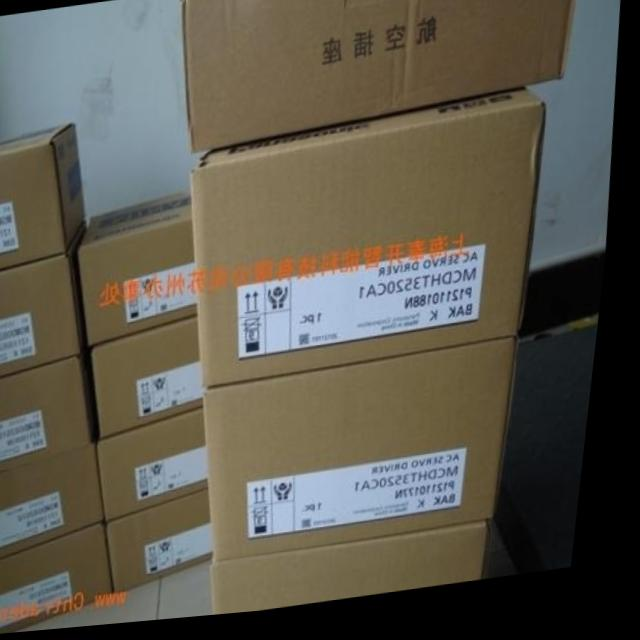box: (196, 96, 550, 391), (213, 345, 529, 569), (183, 0, 579, 158), (225, 530, 509, 620), (84, 195, 206, 350), (0, 444, 118, 565), (0, 525, 127, 636), (101, 320, 214, 443), (0, 125, 92, 272), (107, 411, 220, 525), (0, 354, 104, 477), (0, 250, 90, 380), (117, 494, 226, 597)
